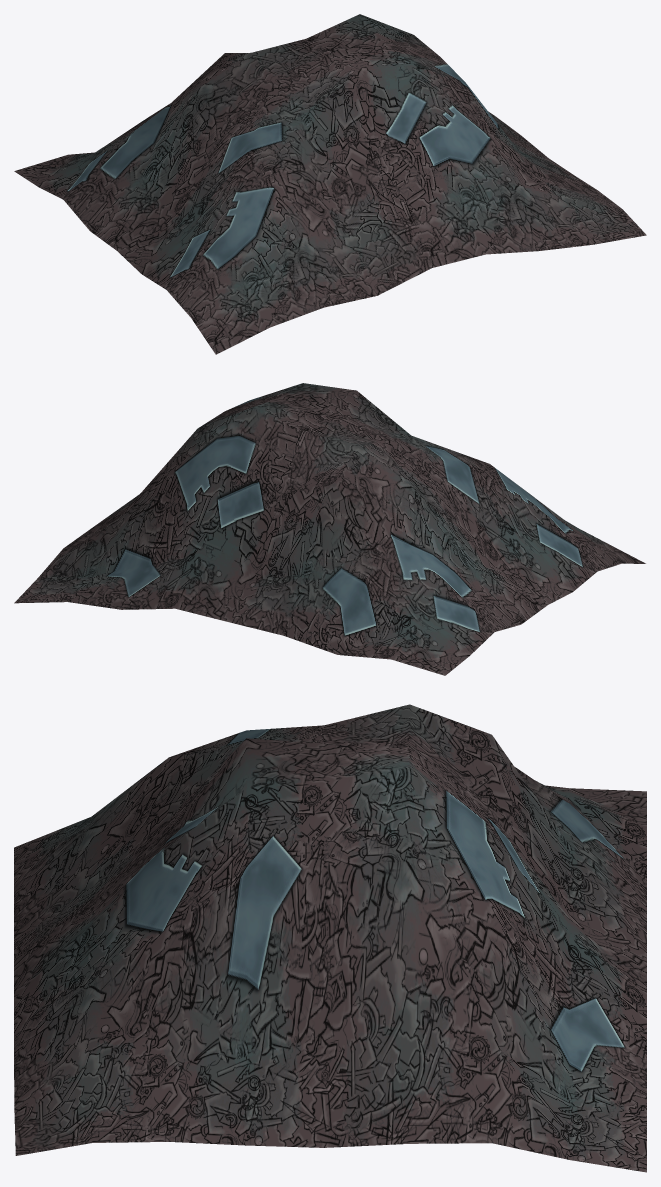
File: track_military_env_scrap_03.fbx
The picture shows the model from 3 angles, top to bottom: view 1: azimuth 30°, elevation 25°; view 2: azimuth 150°, elevation 25°; view 3: azimuth 270°, elevation 25°; orthographic projection. The views are drawn at different scales.
Visible parts, largest first — view 1: track_military_env_scrap_03; view 2: track_military_env_scrap_03; view 3: track_military_env_scrap_03.
Boxes of the visible parts, bbox=[...] form: track_military_env_scrap_03: bbox=[14, 14, 646, 354]; track_military_env_scrap_03: bbox=[14, 383, 645, 675]; track_military_env_scrap_03: bbox=[14, 704, 646, 1172].
Bounding box in the file's own units: 122 × 49.54 × 99.25.
